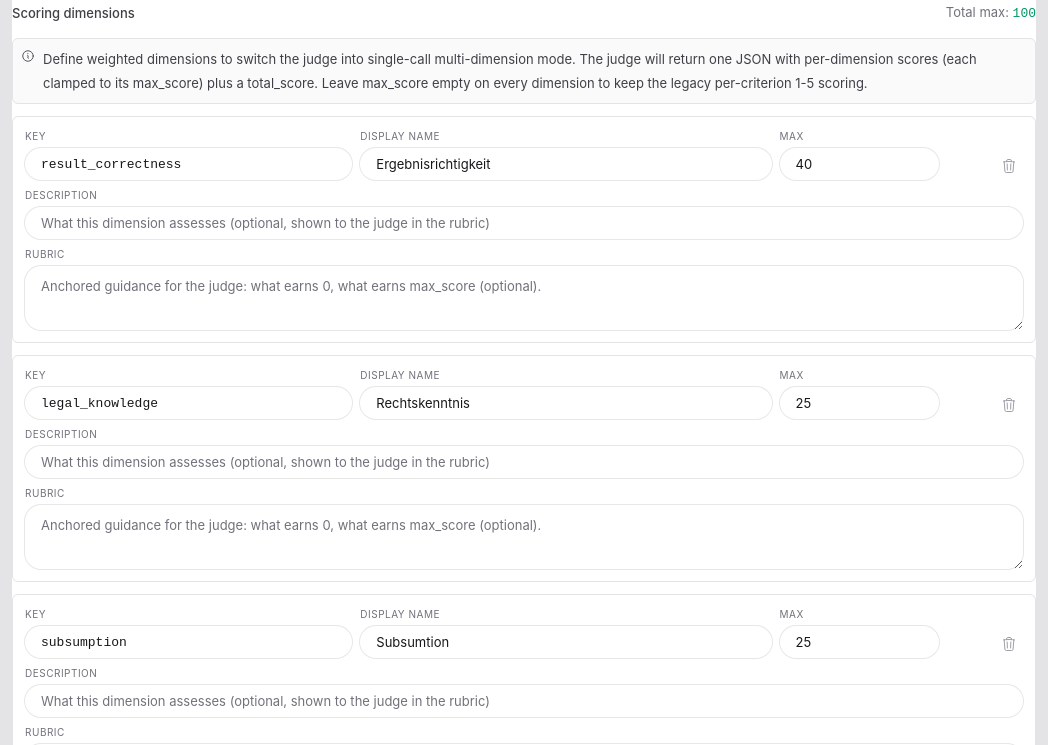
Test: DimensionsEditor › removes a row when trash icon clicked
The image size is (1048, 745).
Click the 1st button named "Remove": (1009, 166) [995,152,1023,180]
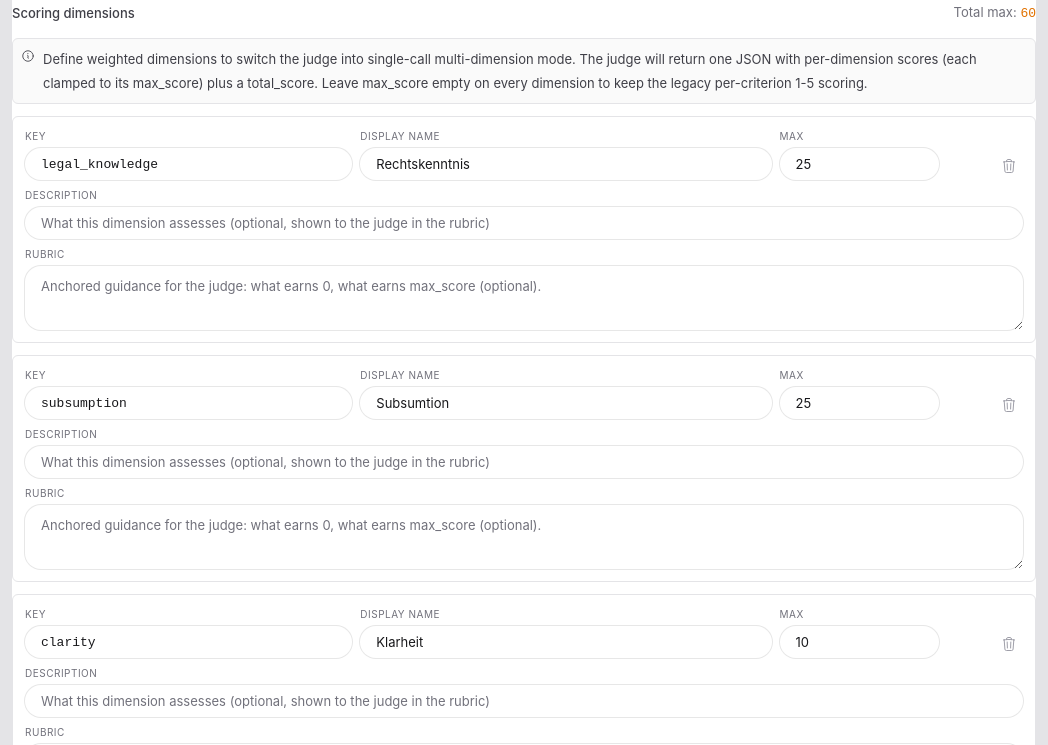
Expected: the number of number fields is 3, [780,148,939,180]; [780,387,939,419]; [780,626,939,658]
